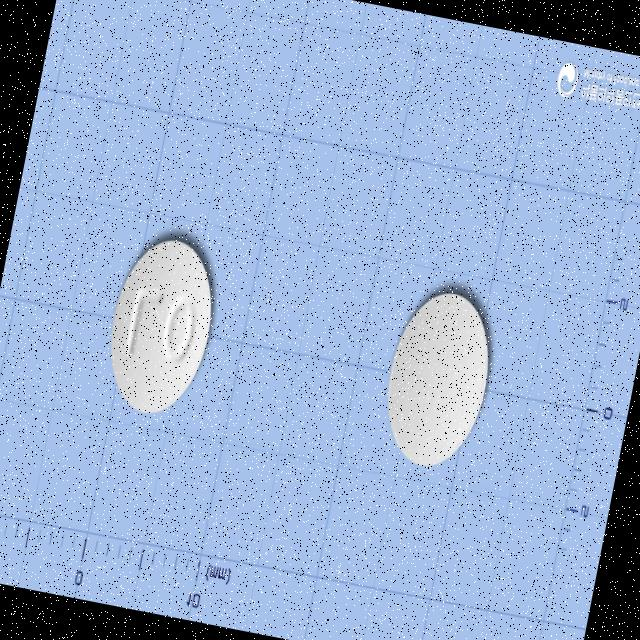Lebofacin: (97, 230, 226, 424), (374, 286, 502, 476)
